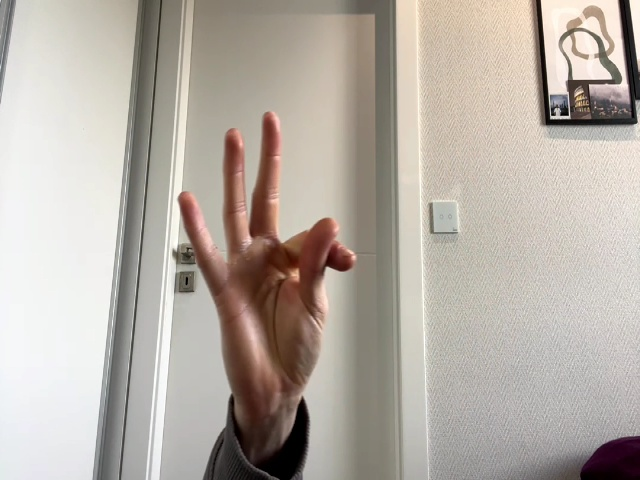T: (178, 111, 356, 404)
